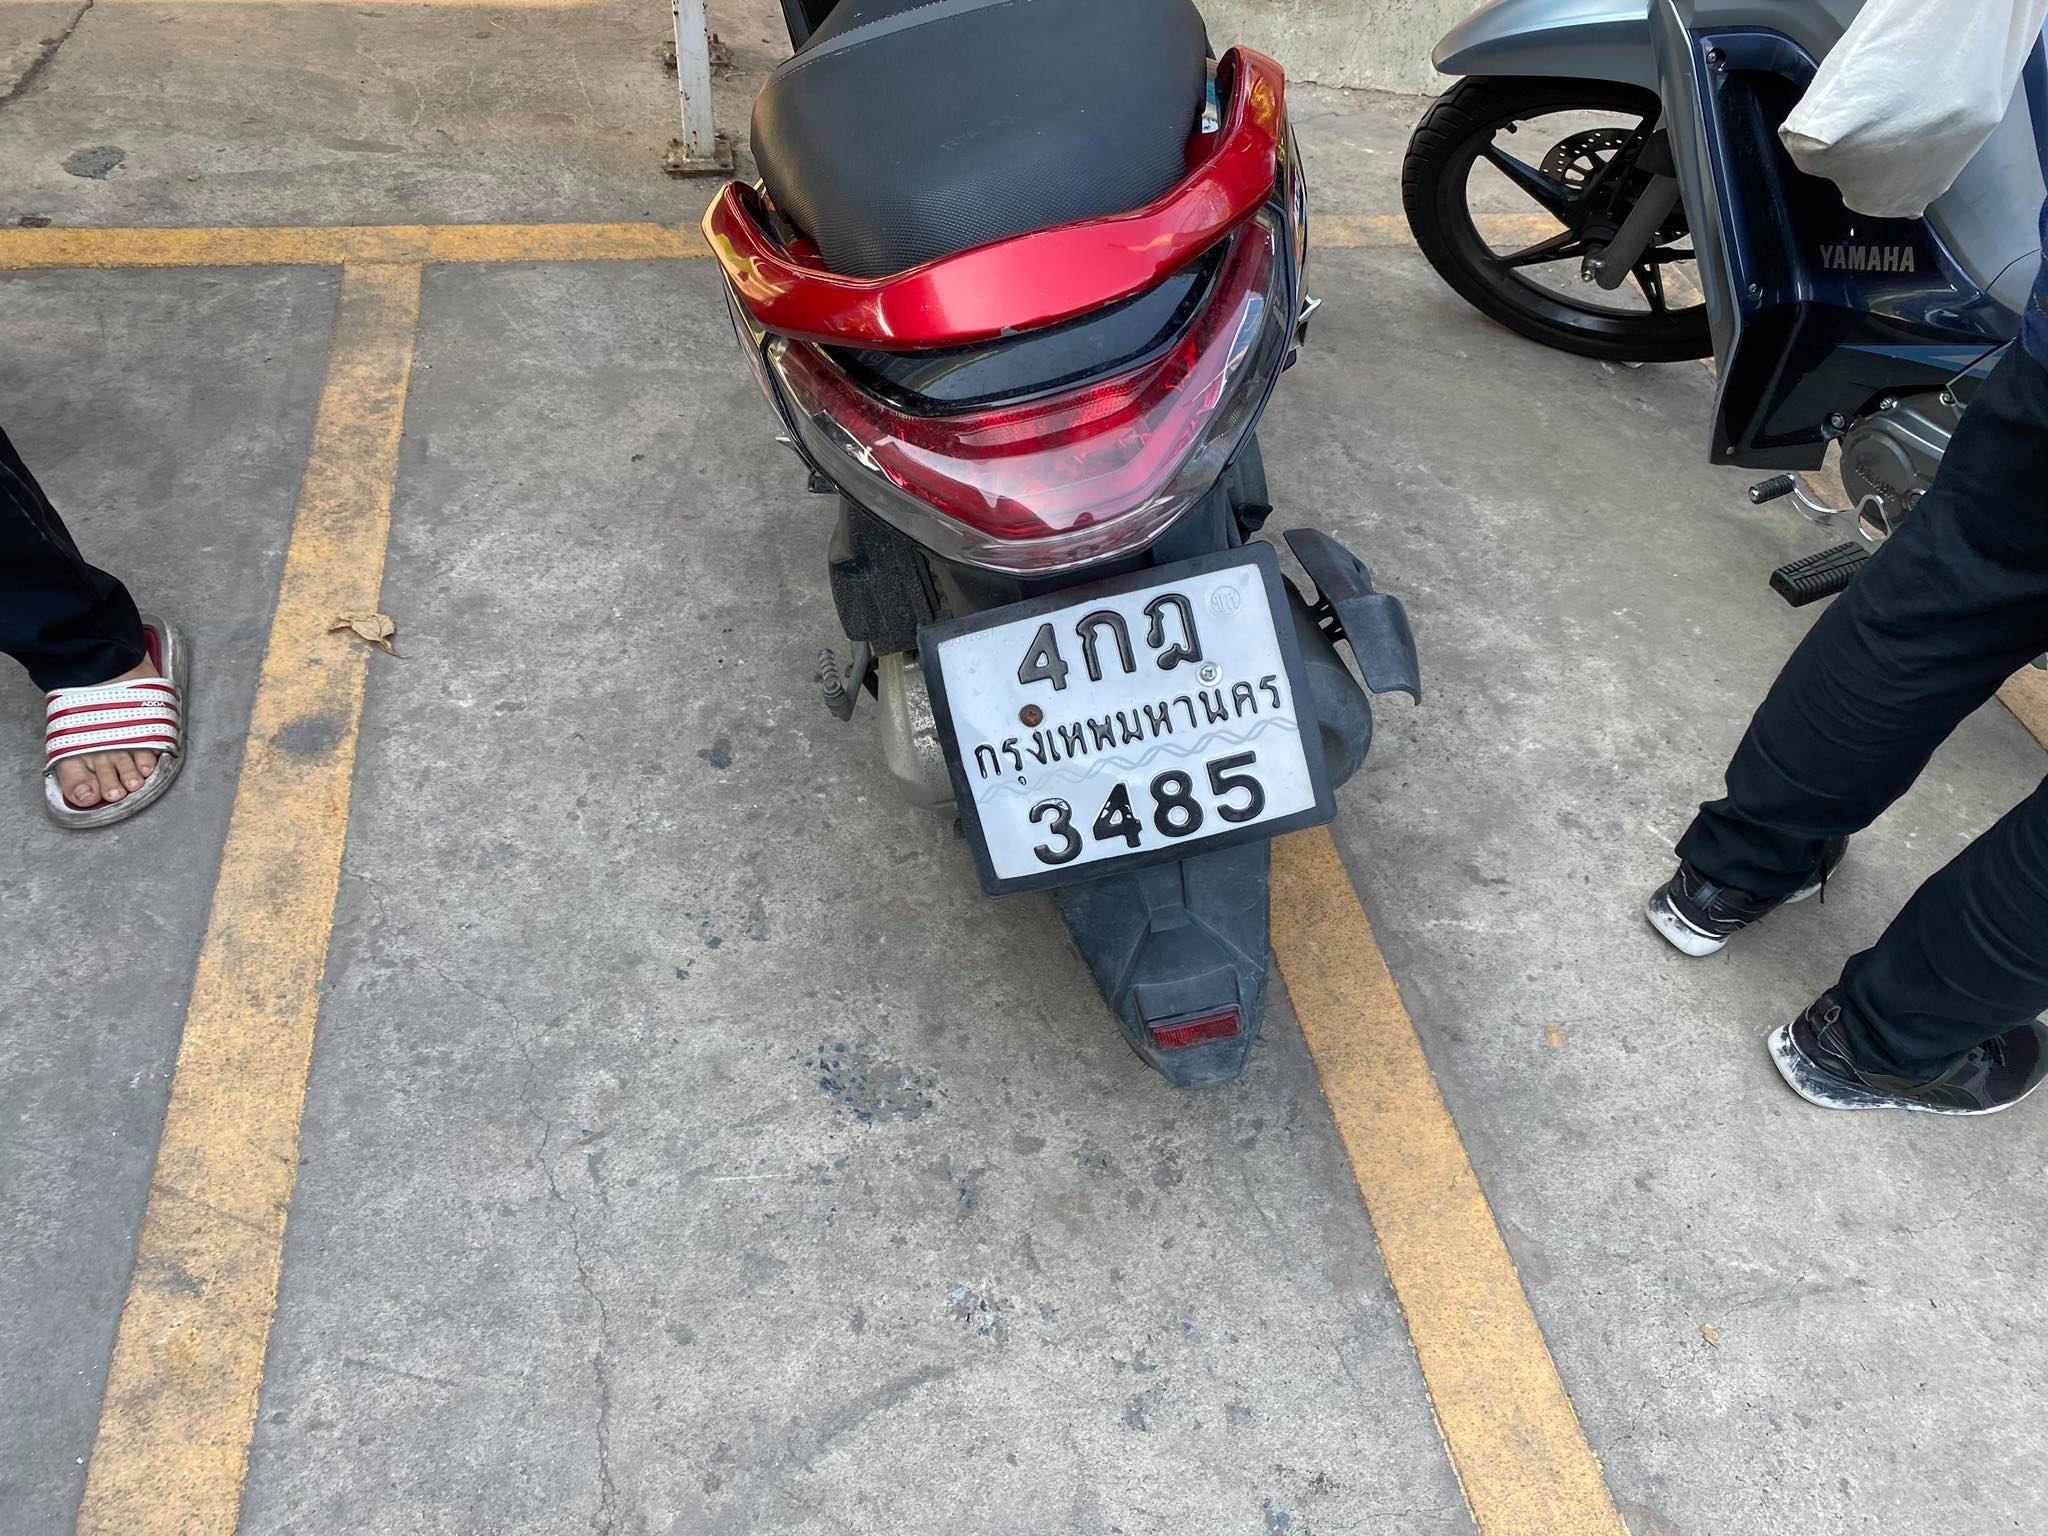line1: (1006, 589, 1209, 686)
line2: (921, 678, 1305, 778)
line3: (1013, 757, 1279, 863)
